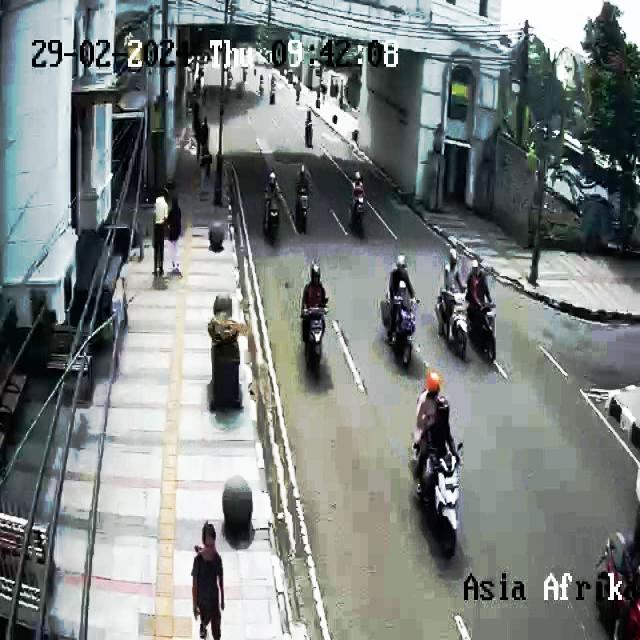Bike: (404, 369, 469, 578), (380, 248, 423, 383), (431, 243, 471, 367), (466, 249, 504, 378), (295, 261, 331, 389), (345, 169, 375, 240), (294, 153, 316, 238), (263, 170, 285, 252), (301, 100, 321, 154)
